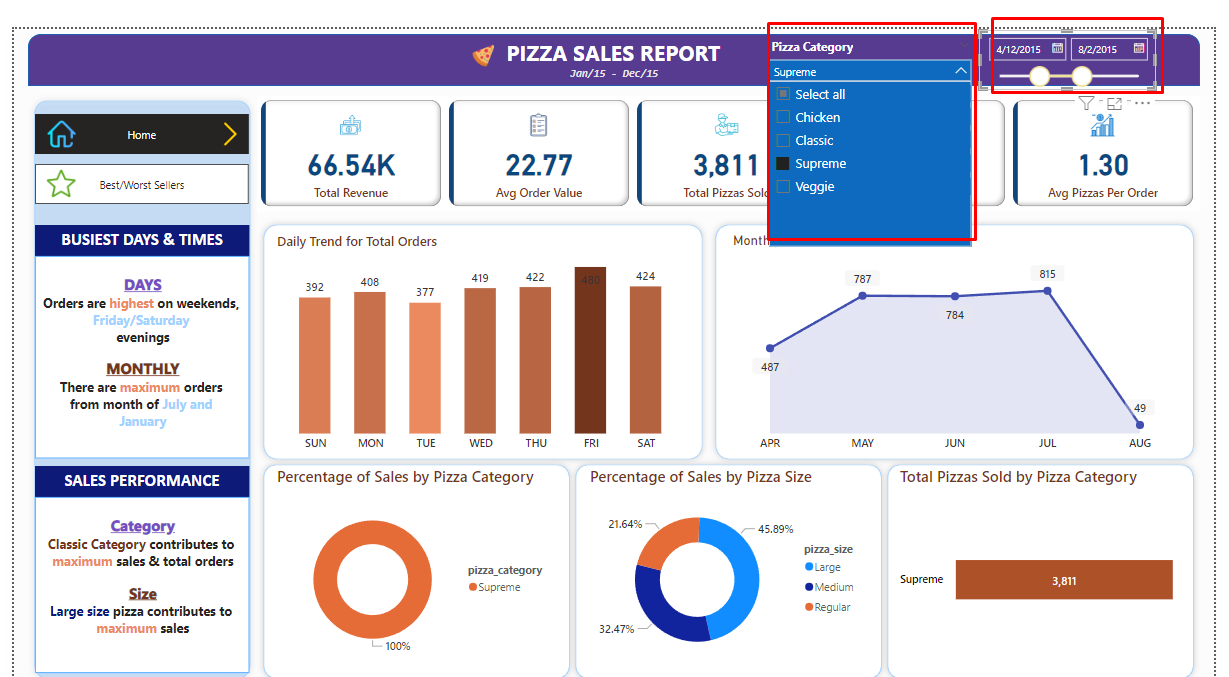

The page's visual inventory and layout, read from the dashboard file:
{"tool":"powerbi","page":{"name":"Best/Worst Sellers","canvas":[1500,820],"ordinal":1},"visuals":[{"type":"cardVisual","fields":{"Data":["pizza_sales.Total Revenue","pizza_sales.Avg Order Value","pizza_sales.Total Pizzas Sold","pizza_sales.Total Orders","pizza_sales.Avg Pizzas Per Order"]},"box":[303.8,83.8,1178.8,143.8],"z":0},{"type":"shape","box":[17.5,6.2,1465,65],"z":1000},{"type":"textbox","box":[605,6.2,288.8,53.8],"z":2000},{"type":"textbox","box":[681.2,41.2,137.5,40],"z":3000},{"type":"image","box":[567.5,12.5,37.5,41.2],"z":4000},{"type":"shape","box":[304,236,405,310],"z":5000},{"type":"shape","box":[17.5,81.2,286.2,738.8],"z":6000},{"type":"textbox","box":[26.2,245,267.5,38.8],"z":7000},{"type":"textbox","box":[26.2,283.8,267.5,252.5],"z":8000},{"type":"textbox","box":[26.2,546.2,267.5,38.8],"z":9000},{"type":"textbox","box":[26.2,581.2,267.5,238.8],"z":10000},{"type":"slicer","fields":{"Values":["pizza_sales.pizza_category"]},"box":[933.8,6.2,272.5,65],"z":11000},{"type":"slicer","fields":{"Values":["pizza_sales.order_date"]},"box":[1206.2,1.2,221.2,75],"z":12000},{"type":"shape","box":[697,236,392,310],"z":13000},{"type":"shape","box":[1078,236,405,310],"z":14000},{"type":"shape","box":[303.8,535,405,285],"z":15000},{"type":"shape","box":[697.5,535,392.5,285],"z":16000},{"type":"shape","box":[1077.5,535,406.2,285],"z":17000},{"type":"barChart","title":"Top 5 Pizzas by Revenue","fields":{"Category":["pizza_sales.pizza_name"],"Y":["pizza_sales.Total Revenue"]},"box":[315,245,382.5,291.2],"z":18000},{"type":"barChart","title":"Bottom 5 Pizzas by Revenue","fields":{"Category":["pizza_sales.pizza_name"],"Y":["pizza_sales.Total Revenue"]},"box":[315,546.2,382.5,258.8],"z":19000},{"type":"barChart","title":"Top 5 Pizzas by Quantity","fields":{"Category":["pizza_sales.pizza_name"],"Y":["pizza_sales.Total Pizzas Sold"]},"box":[708.8,245,382.5,291.2],"z":20000},{"type":"barChart","title":"Bottom 5 Pizzas by Quantity","fields":{"Category":["pizza_sales.pizza_name"],"Y":["pizza_sales.Total Pizzas Sold"]},"box":[708.8,546.2,382.5,258.8],"z":21000},{"type":"barChart","title":"Top 5 Pizzas by Total Orders","fields":{"Category":["pizza_sales.pizza_name"],"Y":["pizza_sales.Total Orders"]},"box":[1091.2,245,382.5,291.2],"z":22000},{"type":"barChart","title":"Bottom 5 Pizzas by Total Orders","fields":{"Category":["pizza_sales.pizza_name"],"Y":["pizza_sales.Total Orders"]},"box":[1091.2,546.2,382.5,258.8],"z":23000},{"type":"pageNavigator","box":[26.2,168.8,267.5,50],"z":24000},{"type":"pageNavigator","box":[26.2,106.2,267.5,50],"z":25000},{"type":"image","box":[252.5,173.8,41.2,38.8],"z":26000},{"type":"image","box":[35,108.8,47.5,45],"z":27000},{"type":"image","box":[35,170,47.5,46.2],"z":28000}]}

Visuals, with their boxes in screenshot pixels (x1, y1, x2, y2), scaled from the page's 1500x820 canvas onto the 1229x677 screenshot:
cardVisual - pizza_sales.Total Revenue x pizza_sales.Avg Order Value: left=249, top=69, right=1215, bottom=188
shape: left=14, top=5, right=1215, bottom=59
textbox: left=496, top=5, right=732, bottom=50
textbox: left=558, top=34, right=671, bottom=67
image: left=465, top=10, right=496, bottom=44
shape: left=249, top=195, right=581, bottom=451
shape: left=14, top=67, right=249, bottom=676
textbox: left=21, top=202, right=241, bottom=234
textbox: left=21, top=234, right=241, bottom=443
textbox: left=21, top=451, right=241, bottom=483
textbox: left=21, top=480, right=241, bottom=676
slicer - pizza_sales.pizza_category: left=765, top=5, right=988, bottom=59
slicer - pizza_sales.order_date: left=988, top=1, right=1170, bottom=63
shape: left=571, top=195, right=892, bottom=451
shape: left=883, top=195, right=1215, bottom=451
shape: left=249, top=442, right=581, bottom=676
shape: left=571, top=442, right=893, bottom=676
shape: left=883, top=442, right=1216, bottom=676
"Top 5 Pizzas by Revenue" barChart: left=258, top=202, right=571, bottom=443
"Bottom 5 Pizzas by Revenue" barChart: left=258, top=451, right=571, bottom=665
"Top 5 Pizzas by Quantity" barChart: left=581, top=202, right=894, bottom=443
"Bottom 5 Pizzas by Quantity" barChart: left=581, top=451, right=894, bottom=665
"Top 5 Pizzas by Total Orders" barChart: left=894, top=202, right=1207, bottom=443
"Bottom 5 Pizzas by Total Orders" barChart: left=894, top=451, right=1207, bottom=665
pageNavigator: left=21, top=139, right=241, bottom=181
pageNavigator: left=21, top=88, right=241, bottom=129
image: left=207, top=143, right=241, bottom=176
image: left=29, top=90, right=68, bottom=127
image: left=29, top=140, right=68, bottom=178
